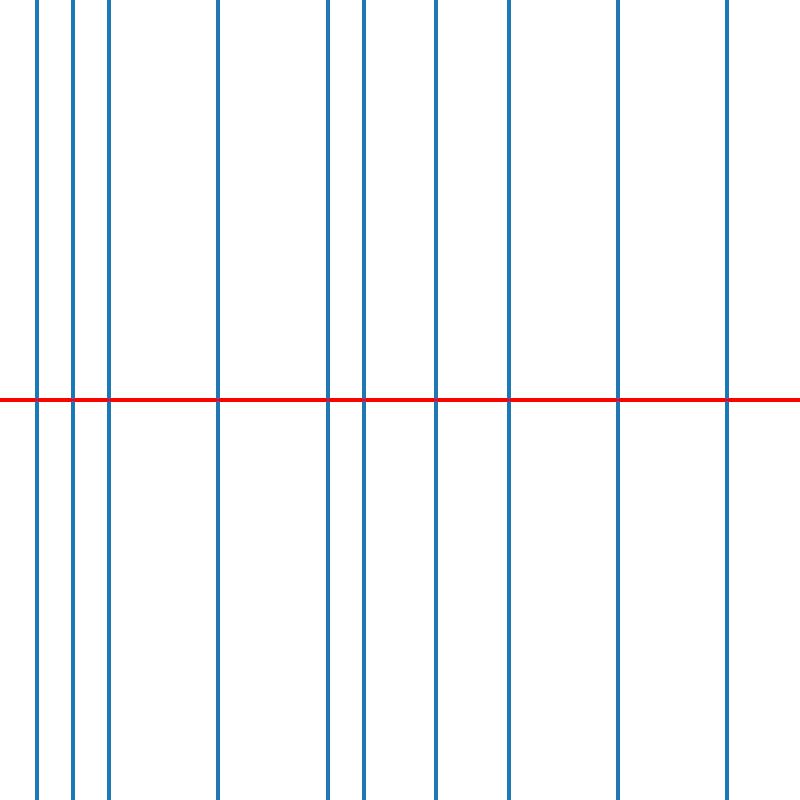root: (432, 396, 440, 404), (32, 396, 40, 404), (323, 396, 330, 404), (723, 396, 730, 404), (69, 396, 76, 404), (105, 396, 112, 404), (214, 396, 221, 404), (614, 396, 621, 404), (360, 396, 367, 404), (505, 396, 512, 404)
